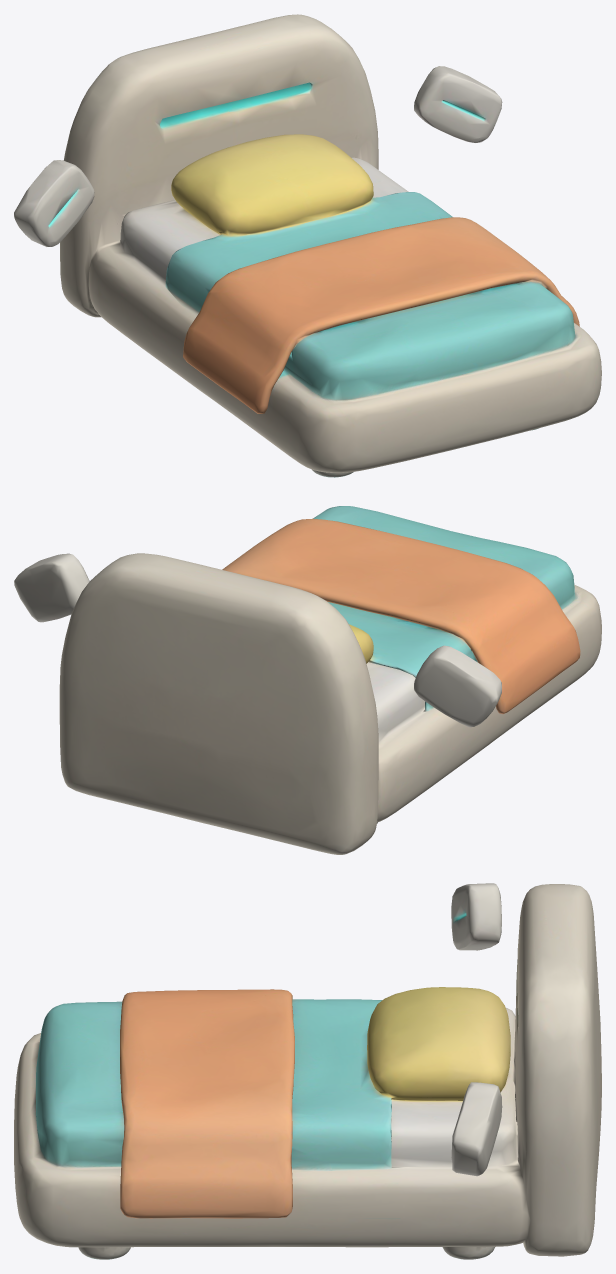
Rendered from bedroom_bed.glb.
3 views of the same model, one above another, from view 1: azimuth 30°, elevation 25°; view 2: azimuth 150°, elevation 25°; view 3: azimuth 270°, elevation 25° (orthographic). The views are drawn at different scales.
Visible parts, largest first — view 1: tripo_node_9dcc422b-dd29-43d8-b27d-cbf2f3594ef3; view 2: tripo_node_9dcc422b-dd29-43d8-b27d-cbf2f3594ef3; view 3: tripo_node_9dcc422b-dd29-43d8-b27d-cbf2f3594ef3.
Part boxes in pixels (<box>): tripo_node_9dcc422b-dd29-43d8-b27d-cbf2f3594ef3: <box>14,14,601,477</box>; tripo_node_9dcc422b-dd29-43d8-b27d-cbf2f3594ef3: <box>14,506,601,854</box>; tripo_node_9dcc422b-dd29-43d8-b27d-cbf2f3594ef3: <box>14,883,601,1259</box>.
Bounding box in the file's own units: 1.9 × 0.9558 × 1.86.
Materials: 1 (1 with a texture image).
